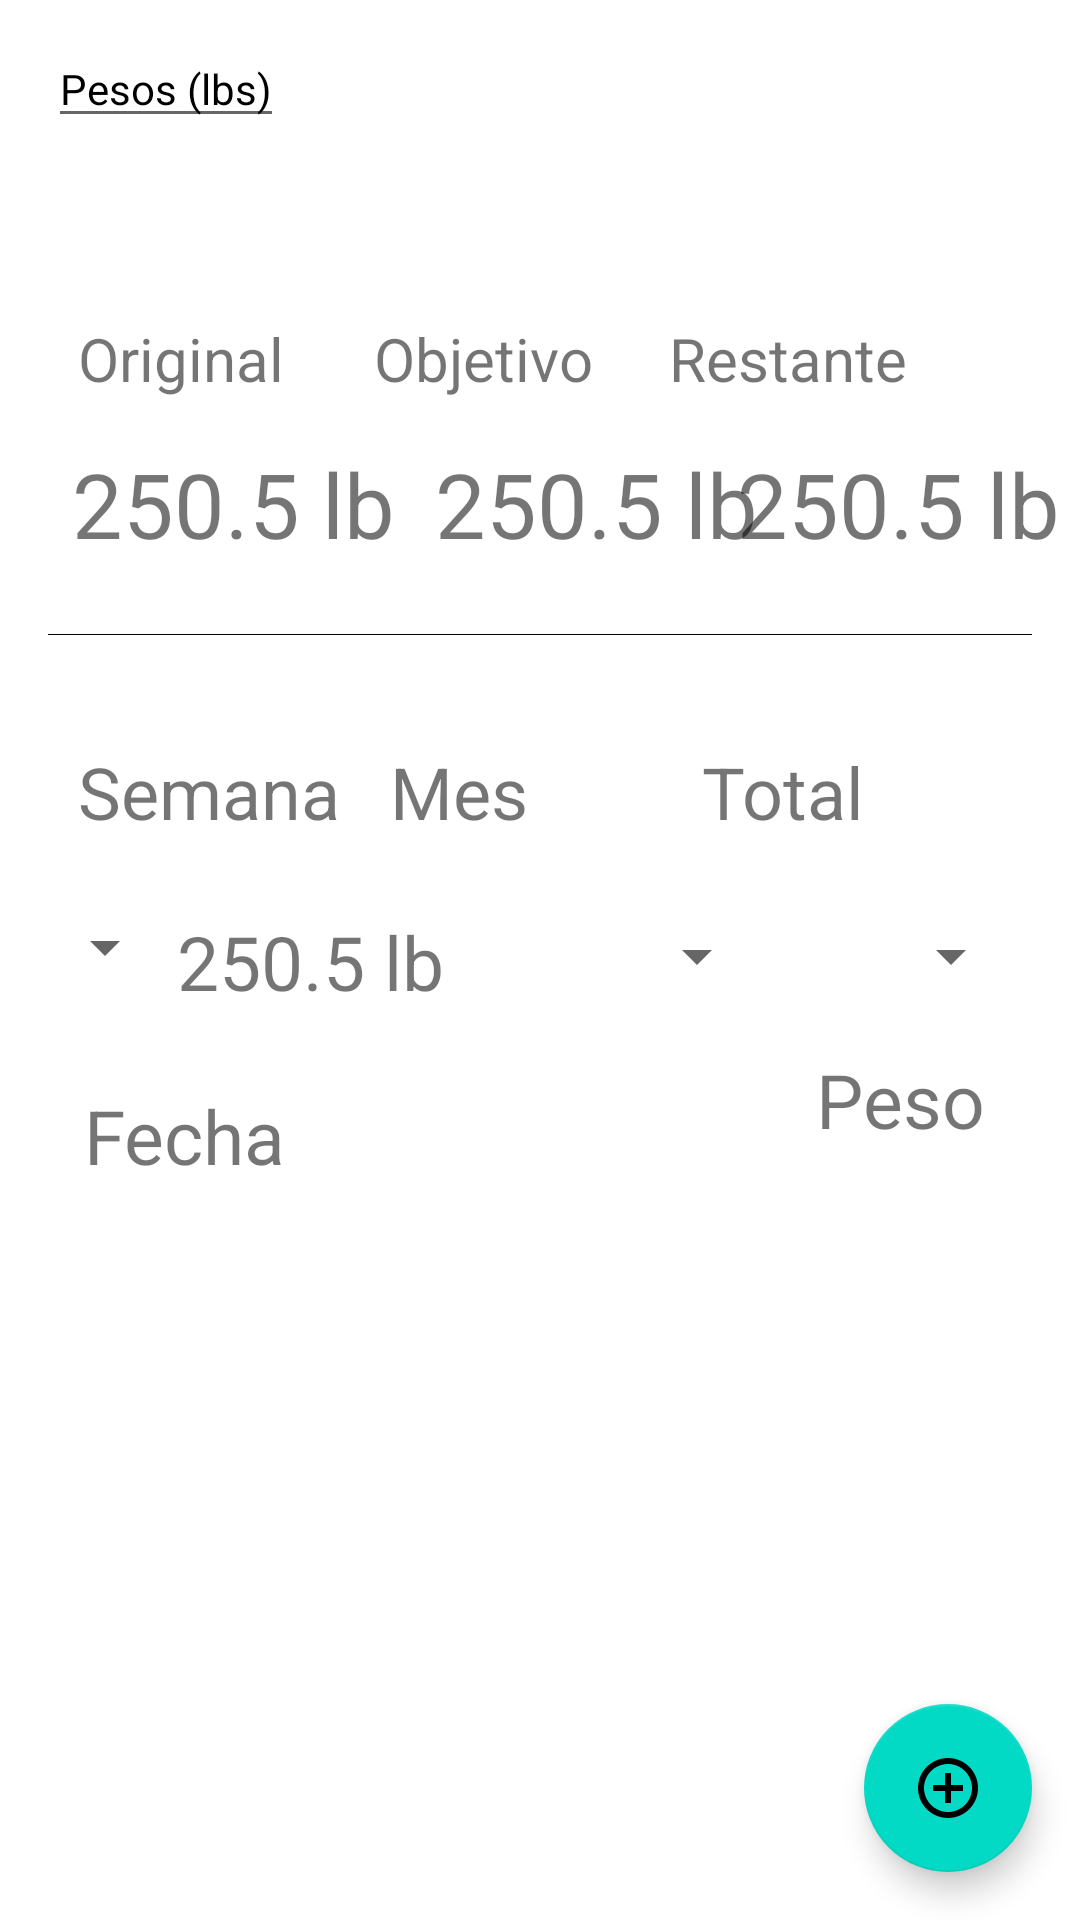

Point at icon controls on the screen. Image size 1080px x 1920px, points as point (x, y).
add circle: point (948, 1788)
